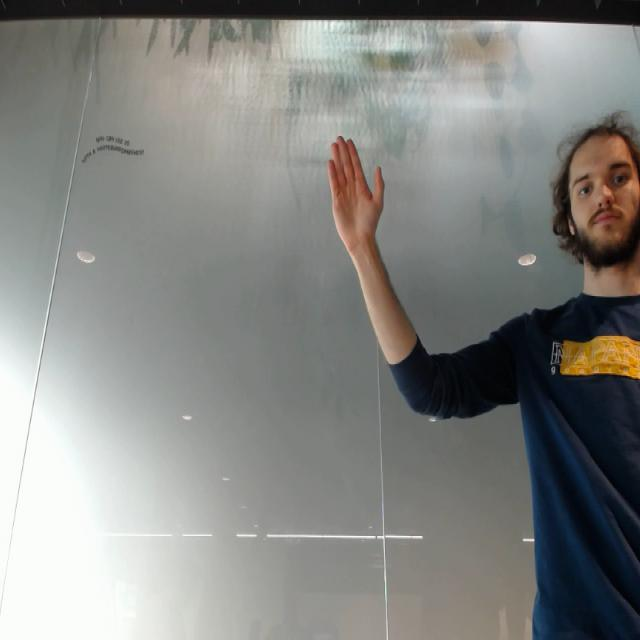backward: (325, 130, 388, 252)
